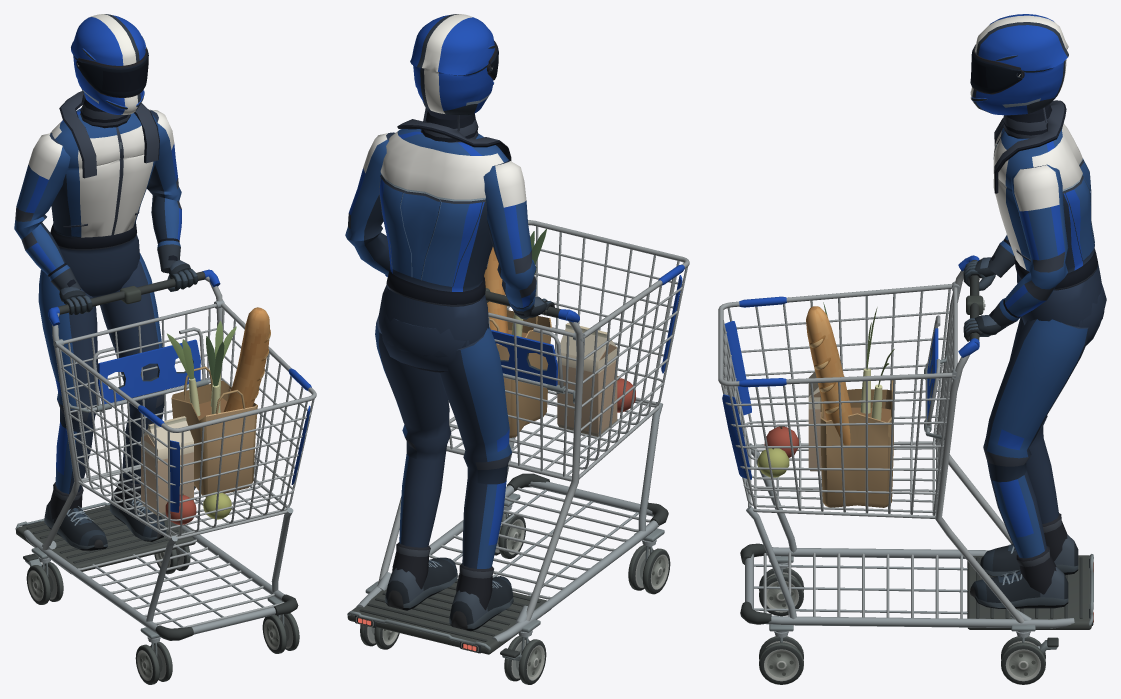
File: shoppingcart_real.glb
3 views of the same model, side by side, from view 1: azimuth 30°, elevation 25°; view 2: azimuth 150°, elevation 25°; view 3: azimuth 270°, elevation 25° (orthographic). The views are drawn at different scales.
Parts seen in each view (by area): view 1: body, torso, head, wheelFR, wheelRR, wheelFL, wheelRL; view 2: body, torso, head, wheelFR, wheelRR, wheelFL, wheelRL; view 3: body, torso, head, wheelFL, wheelRL, wheelFR.
Part boxes in pixels (box(x1,y1,x2,y2)): body: box(14, 109, 316, 656); torso: box(50, 91, 159, 297); head: box(71, 14, 148, 114); wheelFR: box(135, 641, 172, 684); wheelRR: box(26, 562, 63, 604); wheelFL: box(262, 613, 299, 653); wheelRL: box(154, 546, 190, 574); body: box(345, 132, 689, 661); torso: box(378, 107, 511, 357); head: box(410, 14, 498, 115); wheelFR: box(628, 545, 670, 594); wheelRR: box(504, 635, 546, 684); wheelFL: box(494, 513, 525, 558); wheelRL: box(360, 624, 399, 649); body: box(718, 164, 1106, 653); torso: box(993, 100, 1104, 327); head: box(970, 14, 1068, 115); wheelFL: box(759, 636, 803, 684); wheelRL: box(1001, 636, 1045, 684); wheelFR: box(759, 567, 803, 616).
Bounding box in the file's own units: 0.5996 × 1.92 × 1.08.
